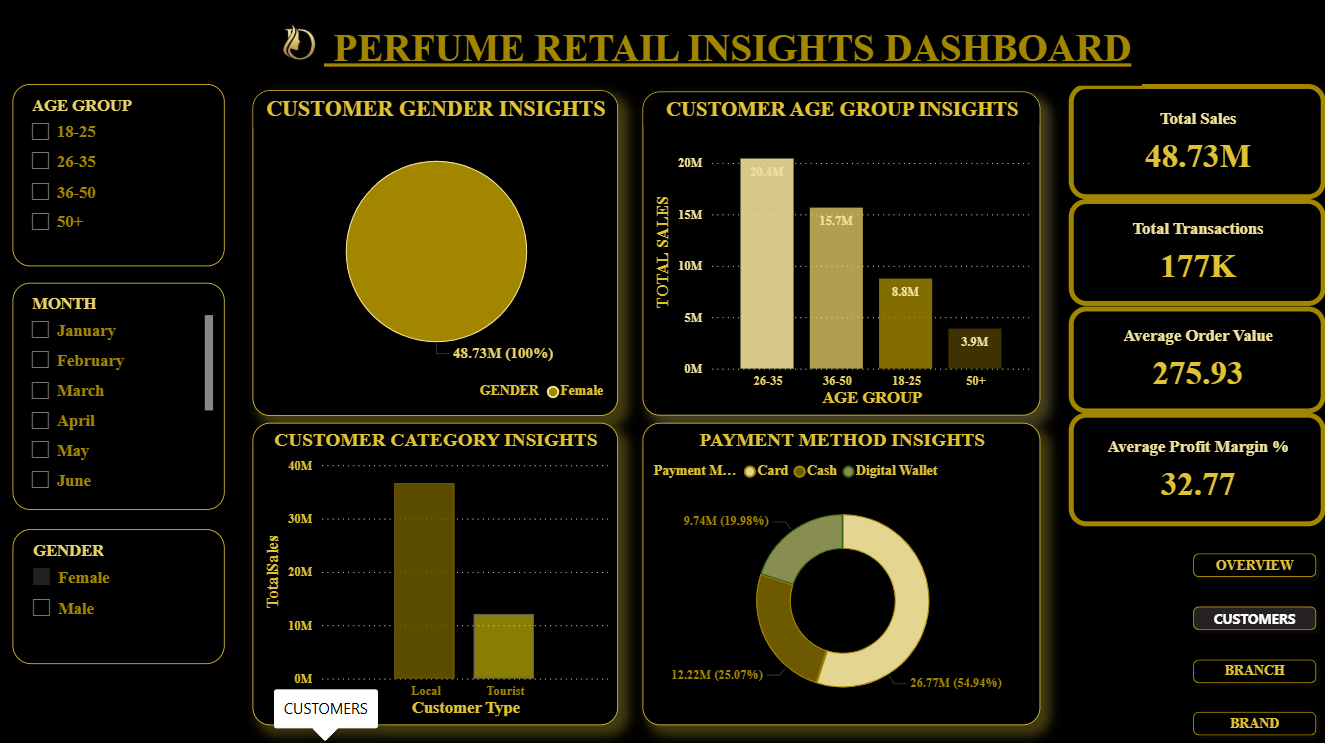

Layout of this report page (visuals, bound fields, positions):
{"tool":"powerbi","page":{"name":"CUSTOMERS","canvas":[1280,720],"ordinal":1},"visuals":[{"type":"cardVisual","fields":{"Data":["Sales2024.Average Profit Margin %"]},"box":[1031.9,399.3,248.4,109.8],"z":0},{"type":"cardVisual","fields":{"Data":["Sales2024.Total Sales"]},"box":[1031.9,82.3,248.4,111.1],"z":1000},{"type":"cardVisual","fields":{"Data":["Sales2024.Total Transactions"]},"box":[1031.9,193.5,248.4,102.9],"z":2000},{"type":"cardVisual","fields":{"Data":["Sales2024.Average Order Value"]},"box":[1031.9,296.4,248.4,102.9],"z":3000},{"type":"image","box":[244.3,0,90.6,83.7],"z":4000},{"type":"textbox","box":[307.4,20.6,794.5,63.1],"z":5000},{"type":"pieChart","title":"CUSTOMER GENDER INSIGHTS","fields":{"Category":["CustomerSegment.gender"],"Y":["Sales2024.Total Sales"]},"box":[244.3,87.8,352.7,314.2],"z":6000},{"type":"columnChart","title":"CUSTOMER AGE GROUP INSIGHTS","fields":{"Y":["Sales2024.Total Sales"],"Category":["CustomerSegment.age_group"]},"box":[620.2,89.2,384.2,312.9],"z":7000},{"type":"columnChart","title":"CUSTOMER CATEGORY INSIGHTS","fields":{"Category":["CustomerSegment.customer_type"],"Y":["Sales2024.Total Sales"]},"box":[244.3,408.9,352.7,292.3],"z":8000},{"type":"donutChart","title":"PAYMENT METHOD INSIGHTS","fields":{"Y":["Sales2024.Total Sales"],"Category":["PaymentMethod.payment_method"]},"box":[620.2,408.9,384.2,292.3],"z":9000},{"type":"slicer","fields":{"Values":["CustomerSegment.age_group"]},"box":[12.3,82.3,204.5,175.6],"z":10000},{"type":"slicer","fields":{"Values":["Date.date.Variation.Date Hierarchy.Month"]},"box":[12.3,274.4,204.5,219.6],"z":11000},{"type":"slicer","fields":{"Values":["CustomerSegment.gender"]},"box":[12.3,511.8,204.5,130.4],"z":12000},{"type":"pageNavigator","box":[1143.1,525.6,137.2,194.9],"z":13000}]}

Visuals, with their boxes in screenshot pixels (x1, y1, x2, y2), scaled from the page's 1280x720 canvas onto the 1325x743 screenshot:
cardVisual - Sales2024.Average Profit Margin %: l=1068, t=412, r=1324, b=525
cardVisual - Sales2024.Total Sales: l=1068, t=85, r=1324, b=200
cardVisual - Sales2024.Total Transactions: l=1068, t=200, r=1324, b=306
cardVisual - Sales2024.Average Order Value: l=1068, t=306, r=1324, b=412
image: l=253, t=0, r=347, b=86
textbox: l=318, t=21, r=1141, b=86
"CUSTOMER GENDER INSIGHTS" pieChart: l=253, t=91, r=618, b=415
"CUSTOMER AGE GROUP INSIGHTS" columnChart: l=642, t=92, r=1040, b=415
"CUSTOMER CATEGORY INSIGHTS" columnChart: l=253, t=422, r=618, b=724
"PAYMENT METHOD INSIGHTS" donutChart: l=642, t=422, r=1040, b=724
slicer - CustomerSegment.age_group: l=13, t=85, r=224, b=266
slicer - Date.date.Variation.Date Hierarchy.Month: l=13, t=283, r=224, b=510
slicer - CustomerSegment.gender: l=13, t=528, r=224, b=663
pageNavigator: l=1183, t=542, r=1324, b=742
